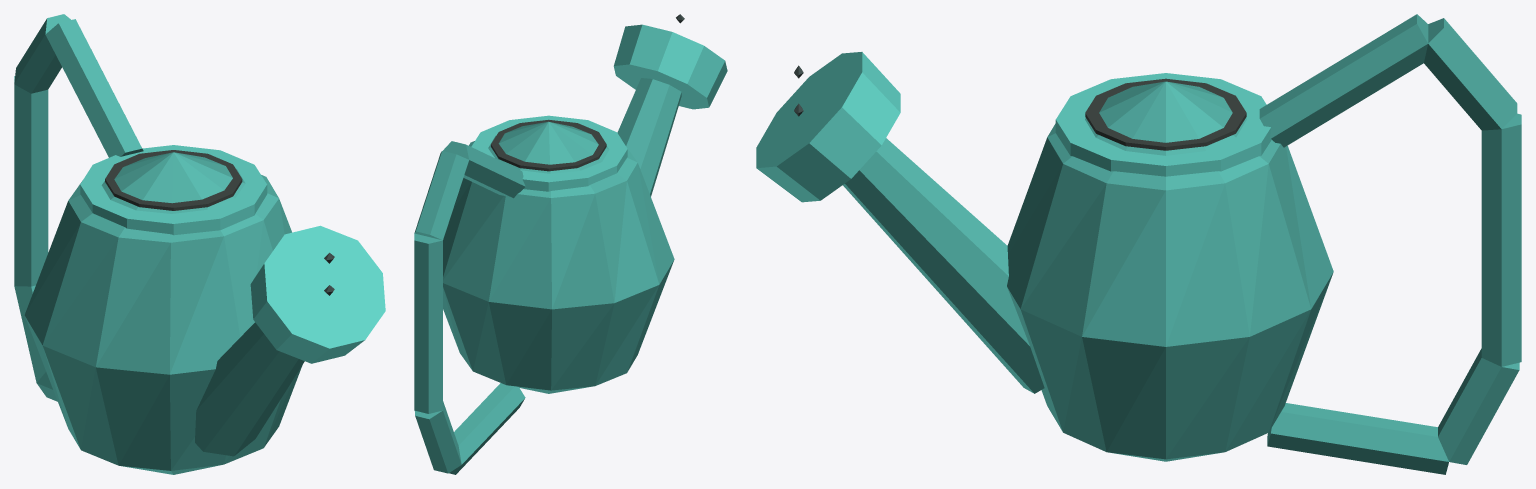
Rendered from tool_can_alloy.glb.
The picture shows the model from 3 angles, left to right: view 1: azimuth 30°, elevation 25°; view 2: azimuth 150°, elevation 25°; view 3: azimuth 270°, elevation 25°; orthographic projection. The views are drawn at different scales.
Parts seen in each view (by area): view 1: tool_can_alloy; view 2: tool_can_alloy; view 3: tool_can_alloy.
Part boxes in pixels (x1,y1,x2,y2): tool_can_alloy: [14, 14, 385, 474]; tool_can_alloy: [414, 14, 727, 474]; tool_can_alloy: [756, 14, 1521, 474].
Bounding box in the file's own units: 0.34 × 0.4746 × 0.7295.
